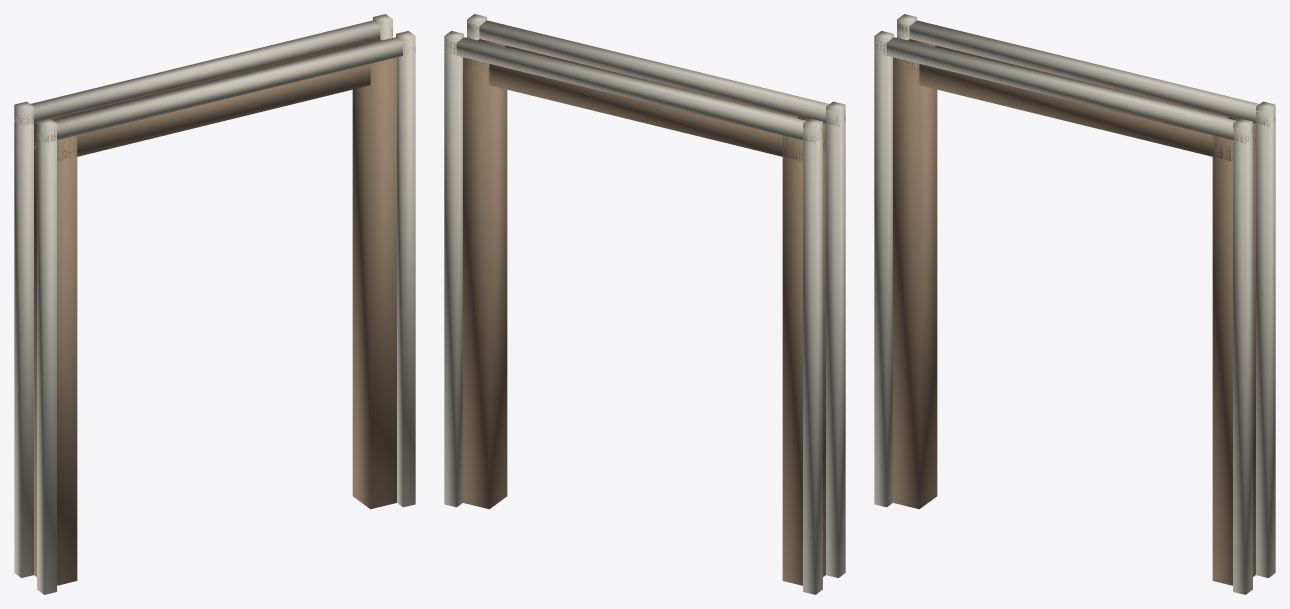
The model's file is doorway_painted_trim_w152_h210_d16.glb.
3 renders of one model, left to right at view 1: azimuth 30°, elevation 25°; view 2: azimuth 150°, elevation 25°; view 3: azimuth 330°, elevation 25°, orthographic.
Parts seen in each view (by area): view 1: world; view 2: world; view 3: world.
Boxes of the visible parts, x1,y1,x2,y2 form: world: (14,14,415,594); world: (444,14,845,594); world: (874,14,1275,594).
Size of the model in its own units: 1.92 by 2.32 by 0.2716.
